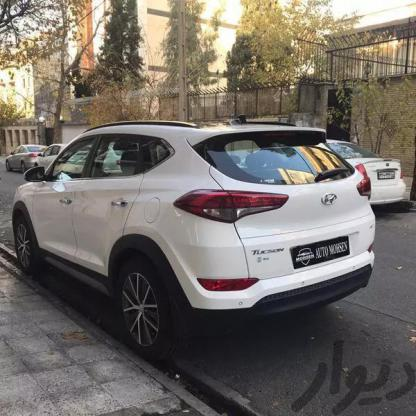Car: (0, 112, 401, 323), (280, 122, 411, 218), (2, 127, 53, 177)
